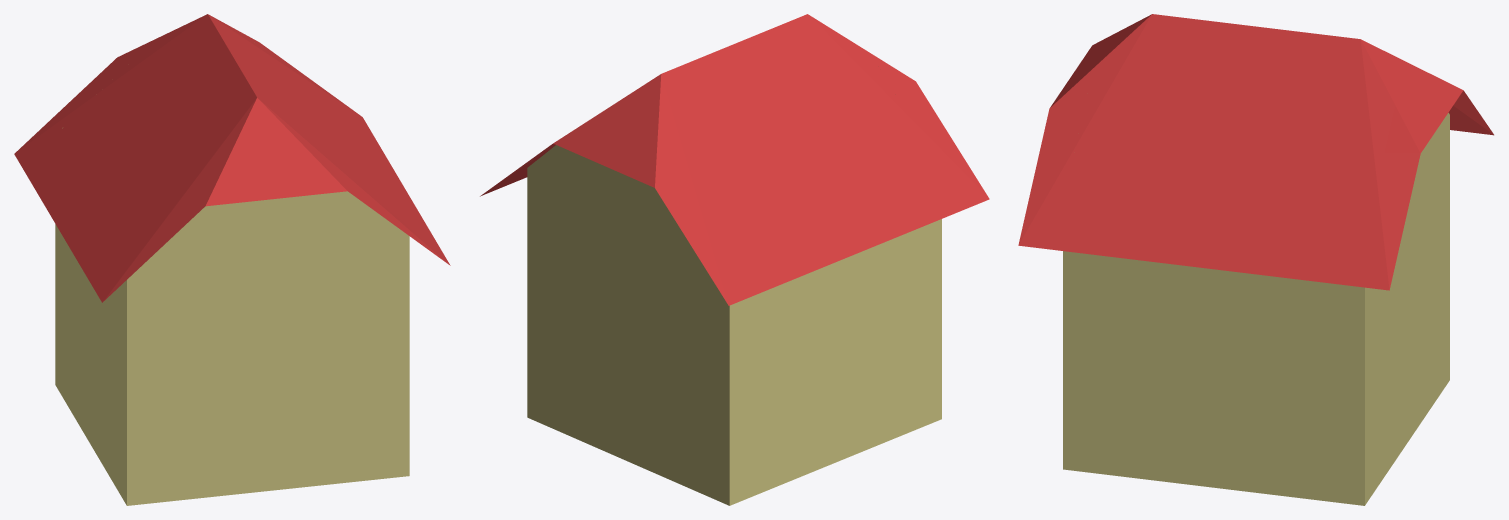
3 renders of one model, left to right at view 1: azimuth 30°, elevation 25°; view 2: azimuth 150°, elevation 25°; view 3: azimuth 270°, elevation 25°, orthographic. The views are drawn at different scales.
Visible parts, largest first — view 1: group_5, group_3, group_4; view 2: group_5, group_3, group_4; view 3: group_5, group_3, group_4.
Boxes of the visible parts, bbox=[...] form: group_5: bbox=[55, 128, 409, 505]; group_3: bbox=[55, 14, 449, 302]; group_4: bbox=[14, 31, 450, 302]; group_5: bbox=[527, 145, 941, 505]; group_3: bbox=[560, 14, 989, 256]; group_4: bbox=[480, 53, 989, 305]; group_5: bbox=[1063, 113, 1449, 505]; group_3: bbox=[1018, 14, 1493, 290]; group_4: bbox=[1018, 32, 1462, 288].
Bounding box in the file's own units: 13.11 × 13.19 × 12.17.
